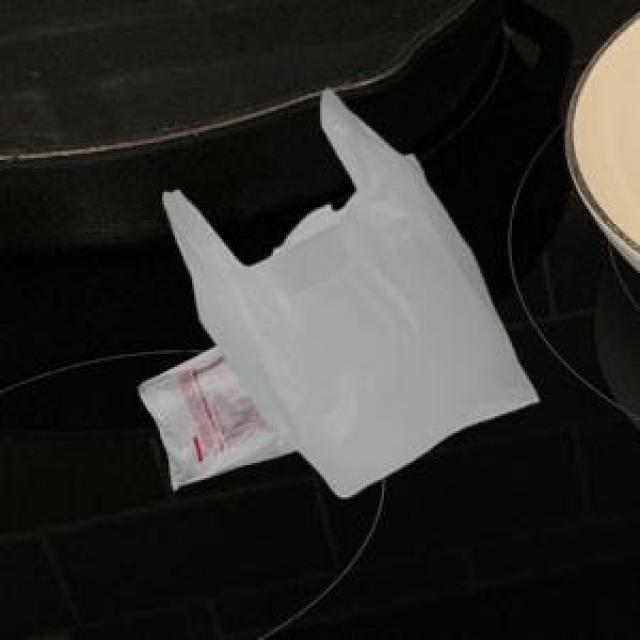waste: (139, 89, 539, 497)
